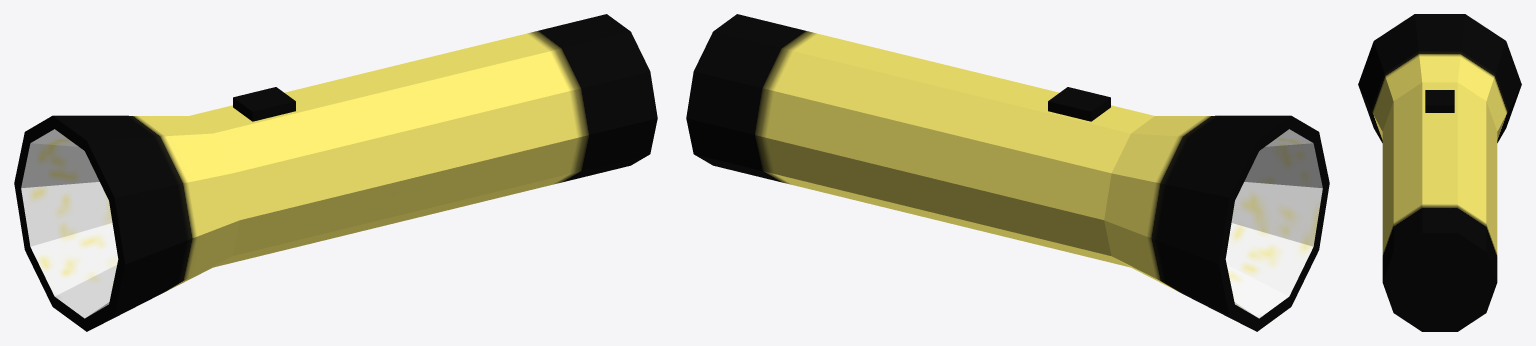
The model's file is Flashlight.fbx.
3 renders of one model, left to right at view 1: azimuth 30°, elevation 25°; view 2: azimuth 150°, elevation 25°; view 3: azimuth 270°, elevation 25°, orthographic. The views are drawn at different scales.
Visible parts, largest first — view 1: Cylinder; view 2: Cylinder; view 3: Cylinder.
Part boxes in pixels (x1,y1,x2,y2): Cylinder: (14,14,657,331); Cylinder: (686,14,1329,331); Cylinder: (1358,14,1521,331).
Size of the model in its own units: 815 by 271 by 285.
Materials: 1 (1 with a texture image).
